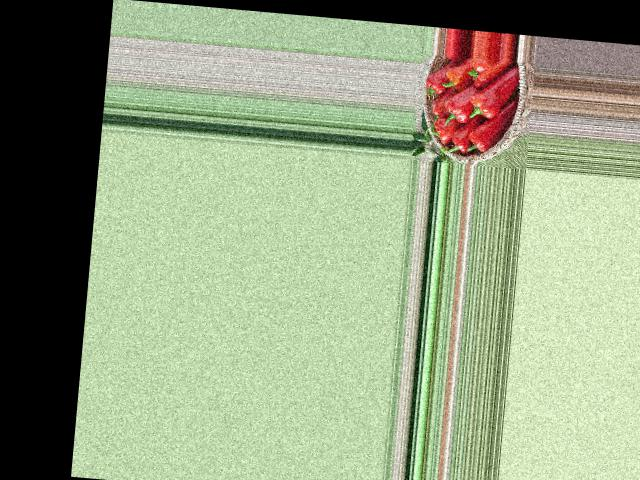bell_pepper: (446, 125, 473, 157)
